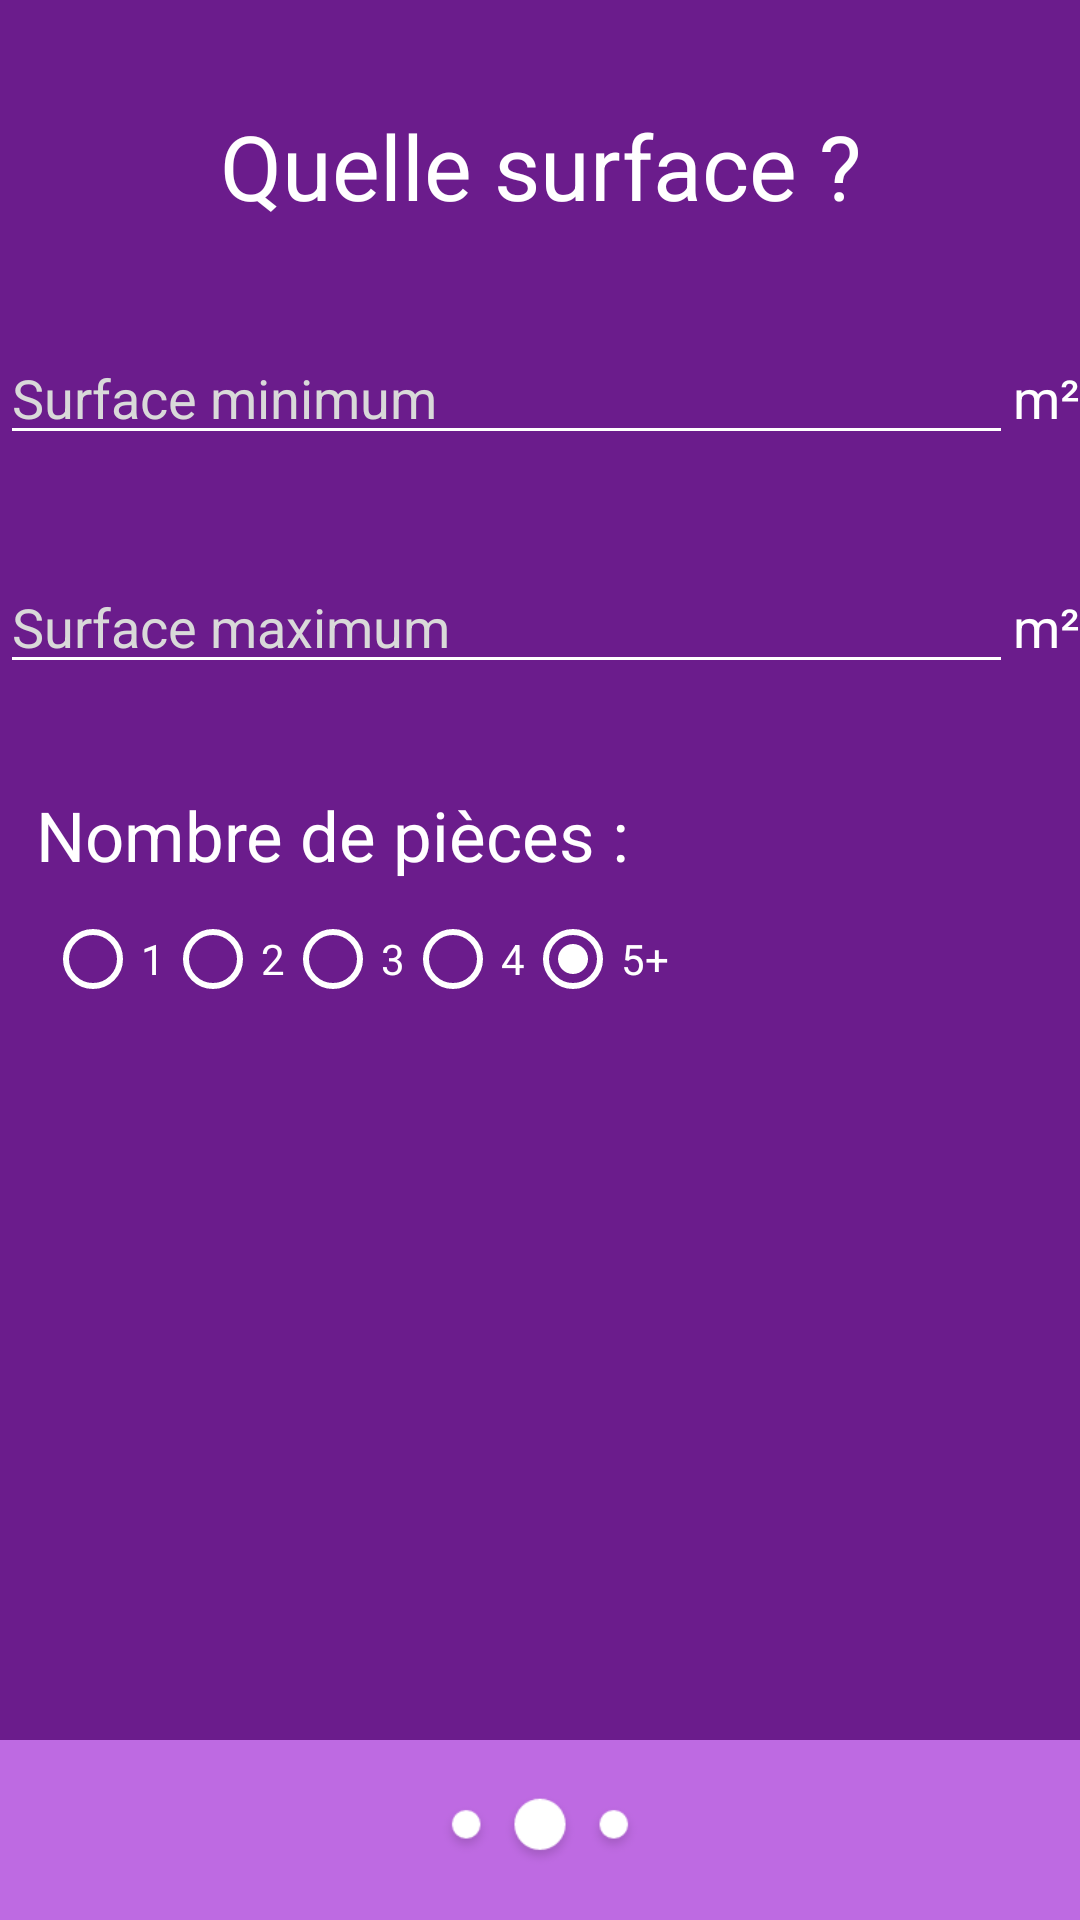

Icon bounding boxes for this 1080×1920 phone screenshot, format BBox(x1, y1, x2, y2):
dot: BBox(452, 1798, 628, 1852)
